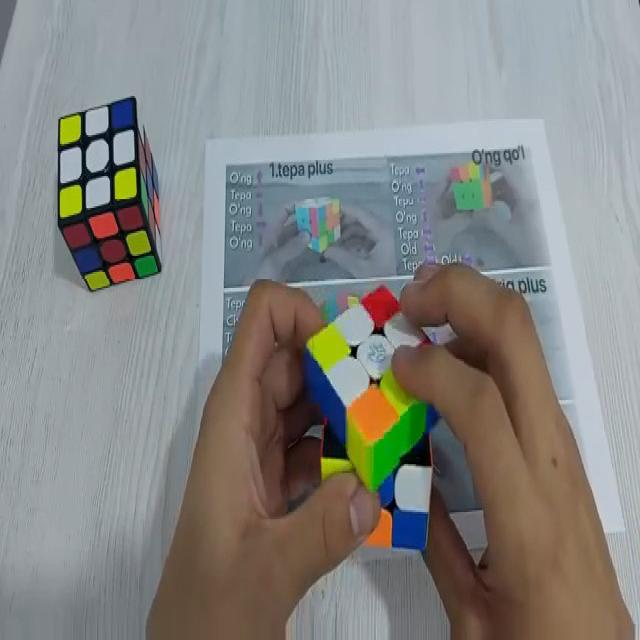Rub: (304, 286, 441, 551), (56, 97, 162, 291)
